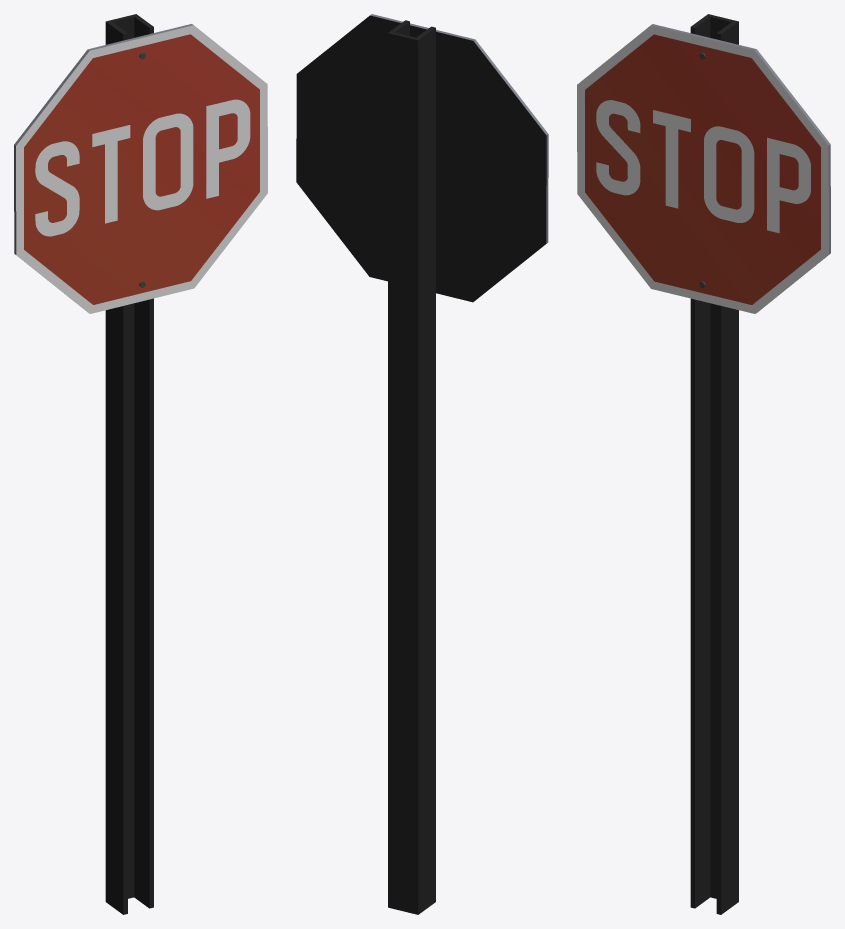
The model's file is stop-sign.glb.
The picture shows the model from 3 angles, left to right: view 1: azimuth 30°, elevation 25°; view 2: azimuth 150°, elevation 25°; view 3: azimuth 330°, elevation 25°; orthographic projection.
Parts seen in each view (by area): view 1: stop-sign; view 2: stop-sign; view 3: stop-sign.
Part boxes in pixels (x1,y1,x2,y2): stop-sign: [14, 14, 267, 914]; stop-sign: [296, 14, 548, 914]; stop-sign: [577, 14, 830, 914].
Size of the model in its own units: 0.5745 by 1.92 by 0.086.
Materials: 1 (1 with a texture image).
